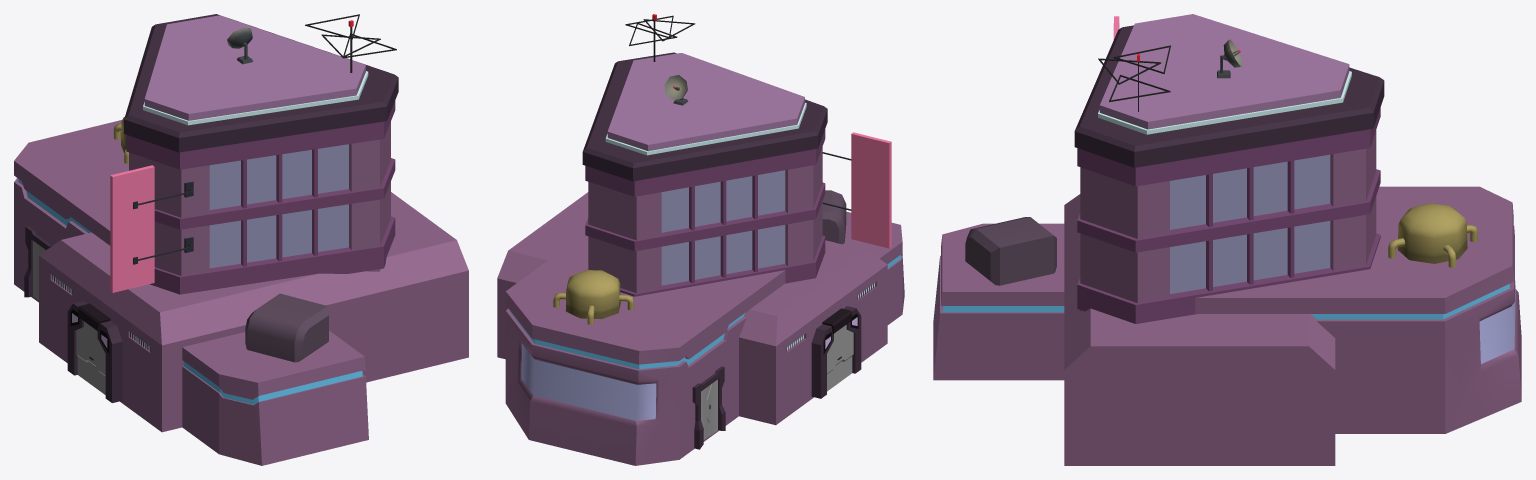
The model's file is SouthWest_House_02.fbx.
The picture shows the model from 3 angles, left to right: view 1: azimuth 30°, elevation 25°; view 2: azimuth 150°, elevation 25°; view 3: azimuth 270°, elevation 25°; orthographic projection. The views are drawn at different scales.
Visible parts, largest first — view 1: SouthWest_House_02; view 2: SouthWest_House_02; view 3: SouthWest_House_02.
Part boxes in pixels (<box>): SouthWest_House_02: <box>14,14,468,465</box>; SouthWest_House_02: <box>497,14,904,465</box>; SouthWest_House_02: <box>933,14,1521,465</box>.
Size of the model in its own units: 36.58 by 34.79 by 50.69.
2 materials, 2 textured.
